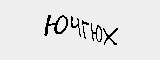Г: (80, 14, 90, 43)
Х: (102, 24, 121, 49)
Ч: (69, 12, 81, 40)
Ю: (40, 11, 69, 38), (89, 19, 104, 46)
